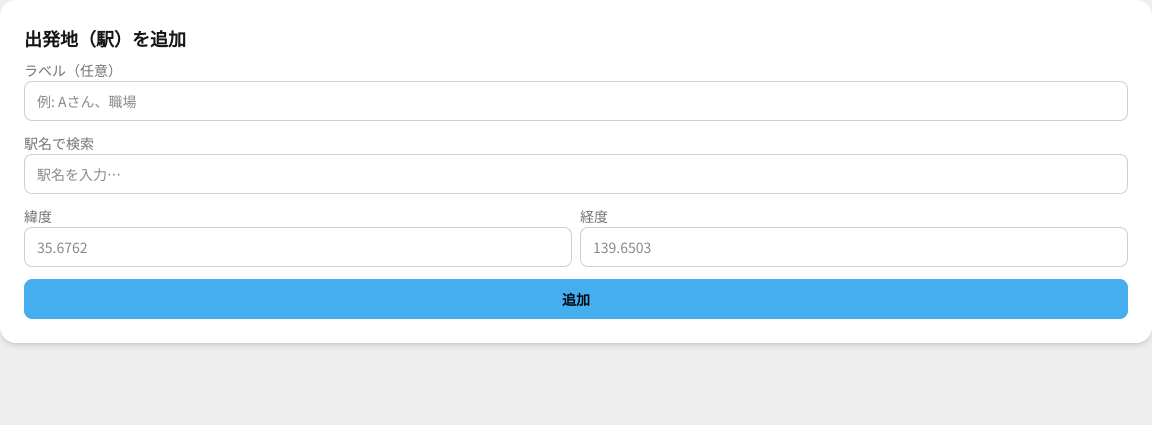
Test: LocationForm › station search › should auto-fill coordinates when a station is selected
Type "東京" into the field named "駅名検索" at (576, 174), box [24,154,1128,194]
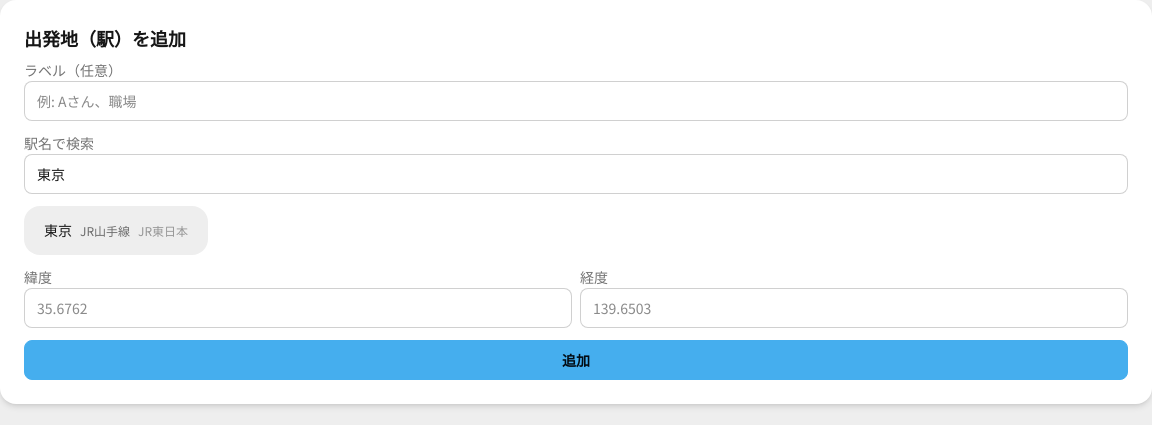
Click the text "東京" at (58, 230), box [44,220,72,241]
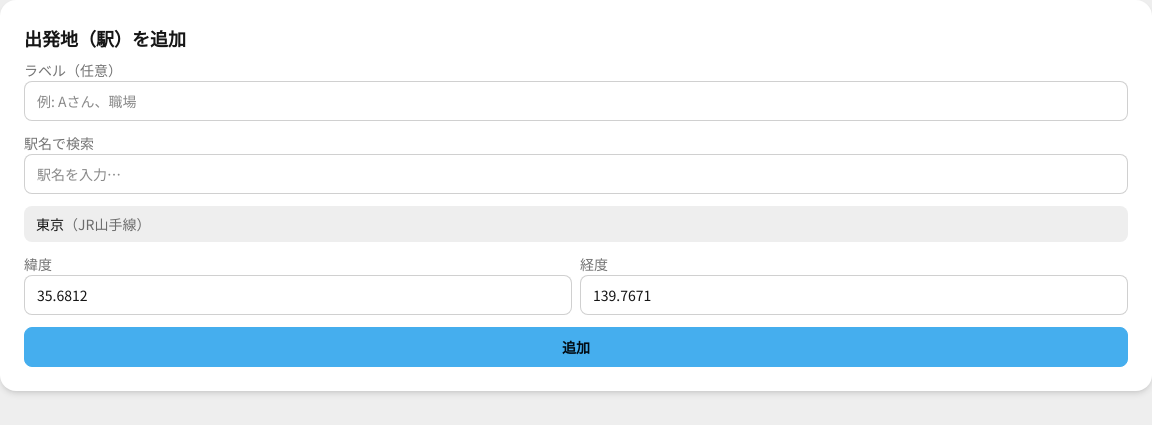
Expected: the number field labelled "緯度" holds "35.6812", [24,275,572,315]
Expected: the number field labelled "経度" holds "139.7671", [580,275,1128,315]
